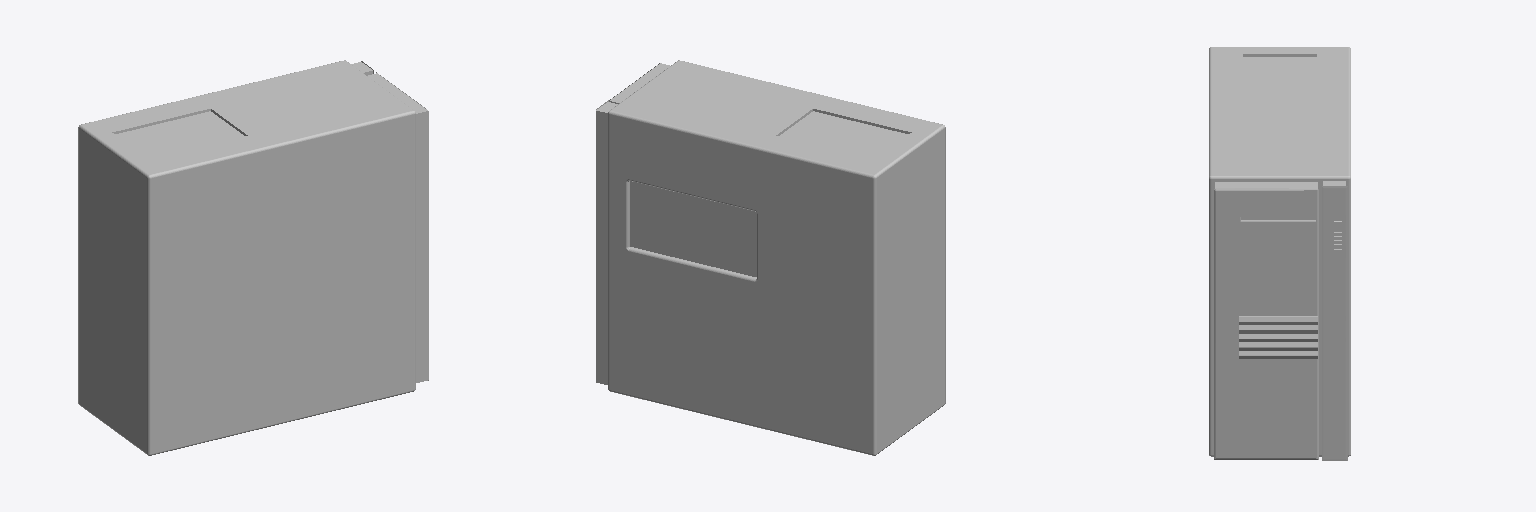
The model's file is computer.obj.
The picture shows the model from 3 angles: view 1: azimuth 30°, elevation 25°; view 2: azimuth 150°, elevation 25°; view 3: azimuth 270°, elevation 25°; orthographic projection.
Parts seen in each view (by area): view 1: 立方体; view 2: 立方体; view 3: 立方体.
Part boxes in pixels (bbox=[...]): 立方体: bbox=[78, 60, 428, 455]; 立方体: bbox=[596, 60, 945, 455]; 立方体: bbox=[1209, 47, 1350, 460].
Size of the model in its own units: 213 by 200 by 92.03.